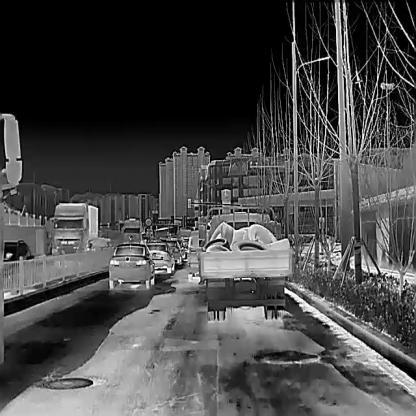car: (197, 205, 295, 320), (46, 201, 98, 253), (107, 241, 156, 290), (1, 237, 33, 296), (186, 227, 209, 282), (147, 240, 175, 274), (117, 216, 146, 244), (166, 238, 183, 265)
